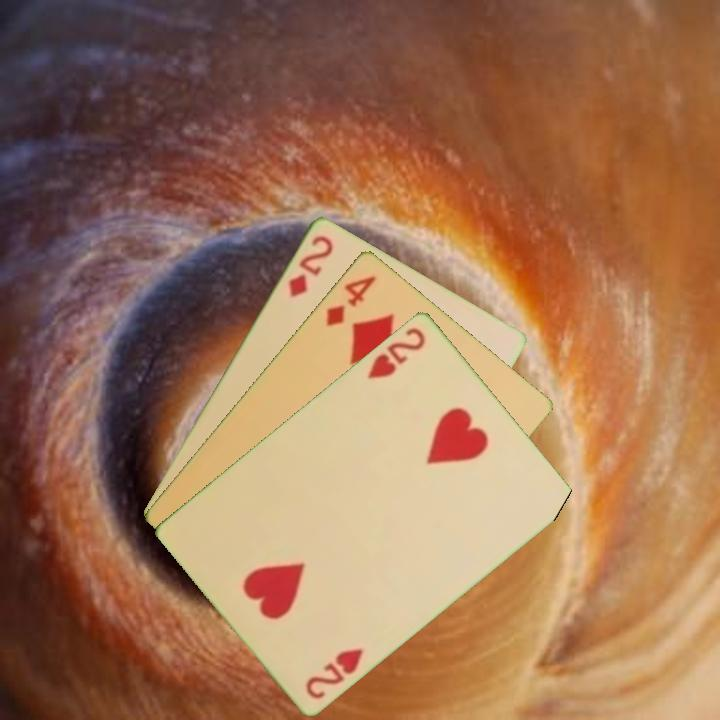2d: (284, 231, 336, 300)
2h: (363, 323, 429, 382), (302, 644, 367, 702)
4d: (322, 271, 379, 329)
